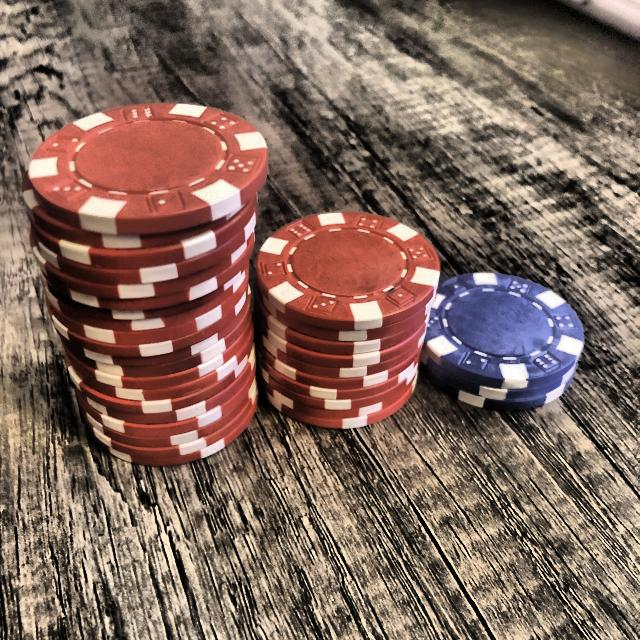Chip: (21, 99, 268, 469), (247, 208, 443, 430), (419, 267, 587, 417)
